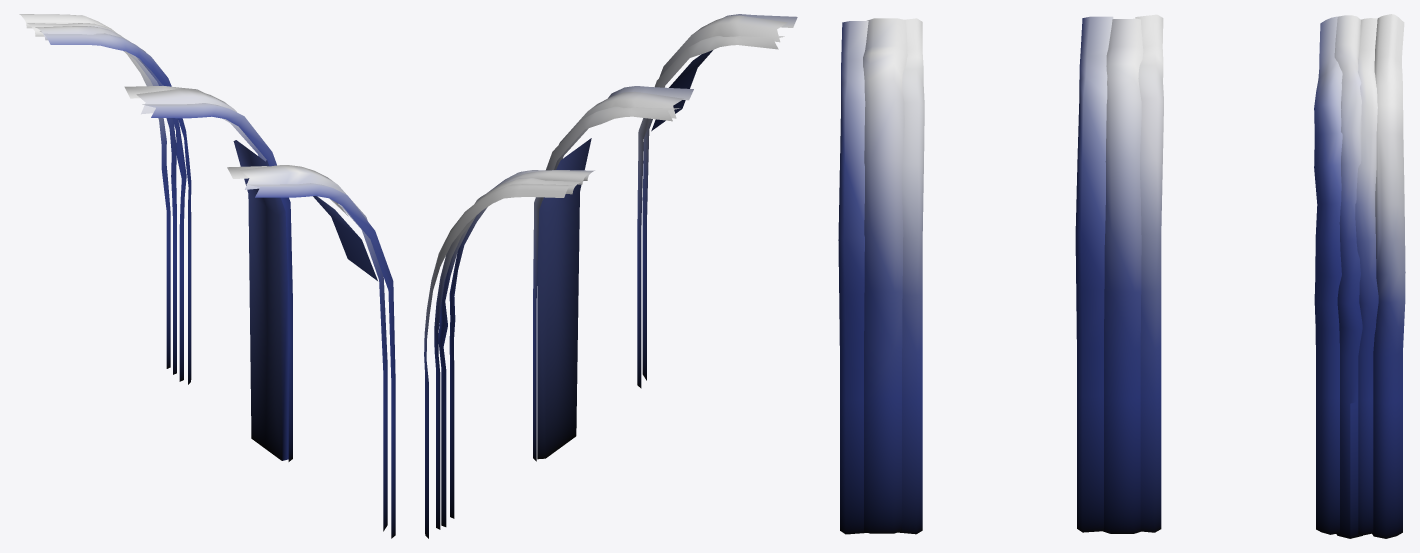
Rendered from 07Sandfall.gltf.
The picture shows the model from 3 angles, left to right: view 1: azimuth 30°, elevation 25°; view 2: azimuth 150°, elevation 25°; view 3: azimuth 270°, elevation 25°; orthographic projection. The views are drawn at different scales.
Visible parts, largest first — view 1: stg010_sandfall_18_Mesh_0008.002, stg010_sandfall_18_Mesh_0007.003, stg010_sandfall_18_Mesh_0007.002; view 2: stg010_sandfall_18_Mesh_0008.002, stg010_sandfall_18_Mesh_0007.003; view 3: stg010_sandfall_18_Mesh_0007.003, stg010_sandfall_18_Mesh_0008.002, stg010_sandfall_18_Mesh_0007.002.
Part boxes in pixels (x1=…): stg010_sandfall_18_Mesh_0008.002: x1=27, y1=23, x2=387, y2=531; stg010_sandfall_18_Mesh_0007.003: x1=19, y1=14, x2=348, y2=461; stg010_sandfall_18_Mesh_0007.002: x1=245, y1=183, x2=395, y2=538; stg010_sandfall_18_Mesh_0008.002: x1=434, y1=15, x2=787, y2=529; stg010_sandfall_18_Mesh_0007.003: x1=424, y1=36, x2=784, y2=538; stg010_sandfall_18_Mesh_0007.003: x1=898, y1=14, x2=1405, y2=538; stg010_sandfall_18_Mesh_0008.002: x1=863, y1=15, x2=1378, y2=538; stg010_sandfall_18_Mesh_0007.002: x1=838, y1=21, x2=868, y2=534.
Bounding box in the file's own units: 34.56 × 82.06 × 95.01.
